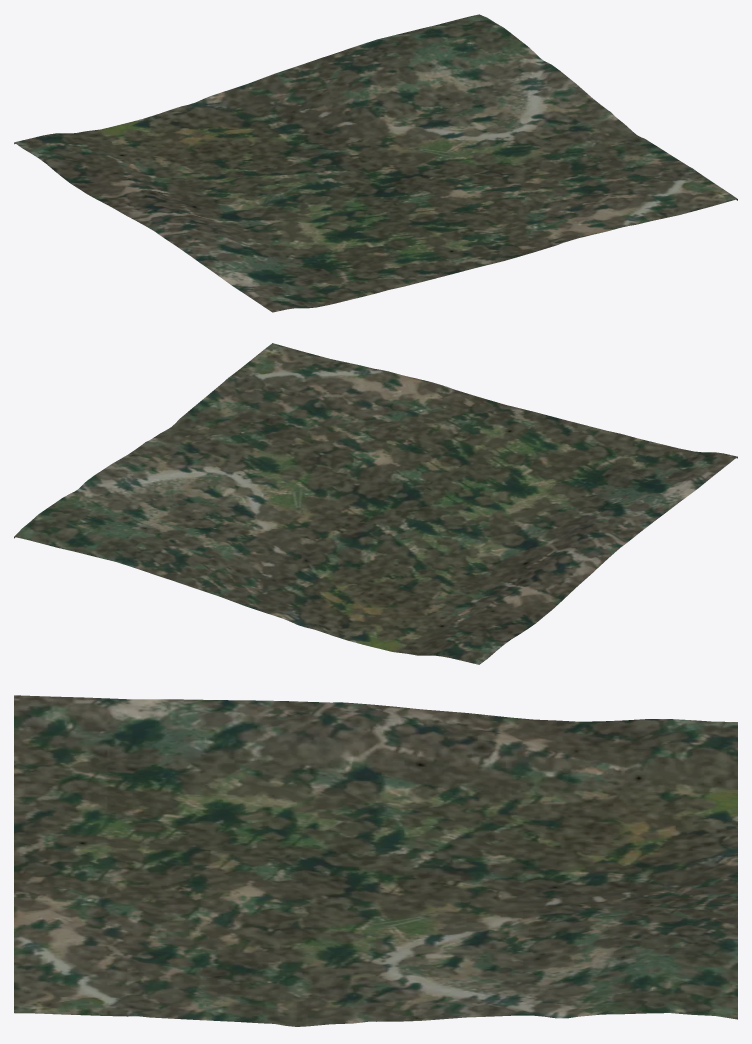
3 views of the same model, one above another, from view 1: azimuth 30°, elevation 25°; view 2: azimuth 150°, elevation 25°; view 3: azimuth 270°, elevation 25° (orthographic). The views are drawn at different scales.
Bounding box in the file's own units: 250 × 15.11 × 241.
Materials: 1 (1 with a texture image).
